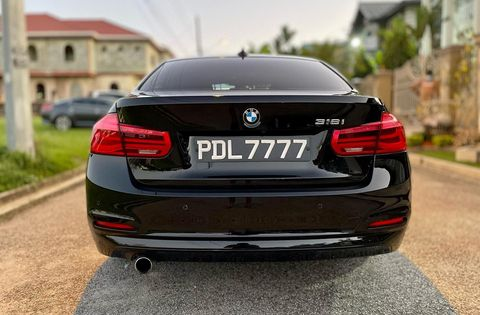License-Plate: (195, 138, 308, 160)
